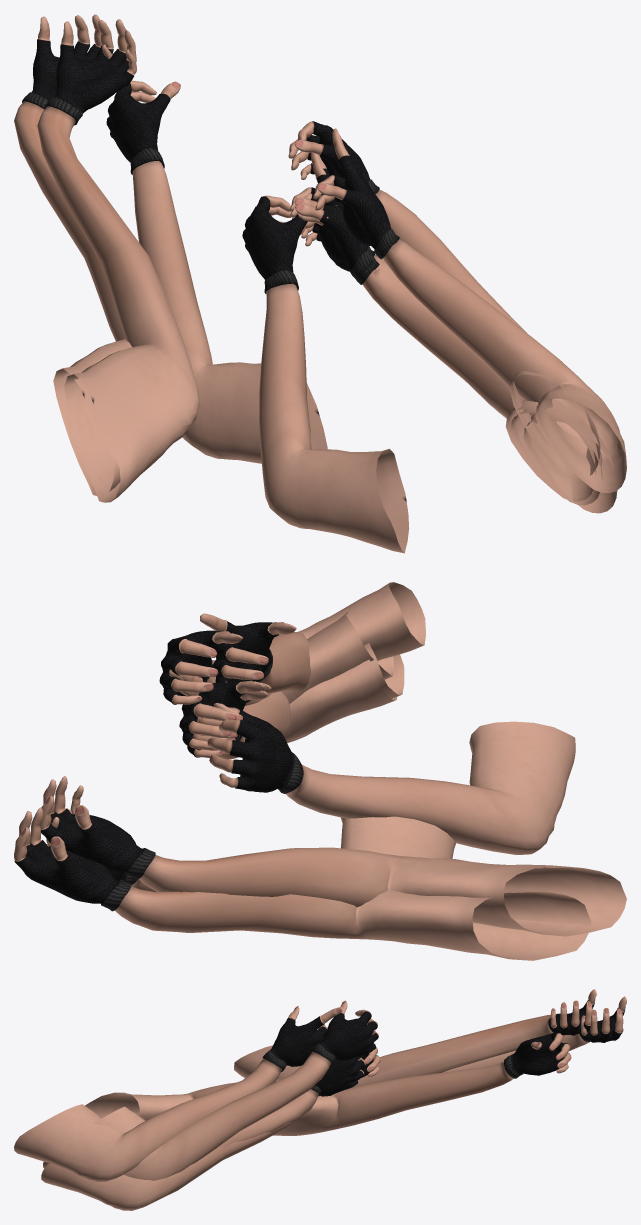
The model's file is viewmodel_arms.glb.
3 views of the same model, one above another, from view 1: azimuth 30°, elevation 25°; view 2: azimuth 150°, elevation 25°; view 3: azimuth 270°, elevation 25° (orthographic). The views are drawn at different scales.
Visible parts, largest first — view 1: msg90_sniper_l, silver_talon_50ae_l, m590_shotgun_r, m4a1_carbine_l, m4a1_carbine_r, m590_shotgun_l, frag_grenade_r, msg90_sniper_r, silver_talon_50ae_r; view 2: msg90_sniper_l, m590_shotgun_l, silver_talon_50ae_l, m590_shotgun_r, frag_grenade_r, silver_talon_50ae_r, m4a1_carbine_l, m4a1_carbine_r, msg90_sniper_r; view 3: m590_shotgun_r, frag_grenade_r, m4a1_carbine_l, msg90_sniper_l, msg90_sniper_r, silver_talon_50ae_r, silver_talon_50ae_l, m590_shotgun_l.
Part boxes in pixels (x1=…): msg90_sniper_l: x1=37, y1=19, x2=199, y2=502; silver_talon_50ae_l: x1=242, y1=195, x2=409, y2=553; m590_shotgun_r: x1=313, y1=128, x2=626, y2=493; m4a1_carbine_l: x1=106, y1=80, x2=327, y2=463; m4a1_carbine_r: x1=290, y1=152, x2=602, y2=505; m590_shotgun_l: x1=14, y1=14, x2=132, y2=495; frag_grenade_r: x1=288, y1=121, x2=600, y2=479; msg90_sniper_r: x1=297, y1=175, x2=617, y2=513; silver_talon_50ae_r: x1=289, y1=155, x2=596, y2=501; msg90_sniper_l: x1=40, y1=776, x2=626, y2=936; m590_shotgun_l: x1=14, y1=807, x2=591, y2=960; silver_talon_50ae_l: x1=207, y1=703, x2=575, y2=854; m590_shotgun_r: x1=200, y1=582, x2=425, y2=693; frag_grenade_r: x1=159, y1=612, x2=394, y2=705; silver_talon_50ae_r: x1=169, y1=659, x2=398, y2=749; m4a1_carbine_l: x1=46, y1=809, x2=455, y2=891; m4a1_carbine_r: x1=182, y1=643, x2=404, y2=755; msg90_sniper_r: x1=179, y1=690, x2=357, y2=759; m590_shotgun_r: x1=14, y1=1006, x2=342, y2=1181; frag_grenade_r: x1=93, y1=1000, x2=378, y2=1180; m4a1_carbine_l: x1=273, y1=1032, x2=571, y2=1135; msg90_sniper_l: x1=234, y1=989, x2=596, y2=1088; msg90_sniper_r: x1=41, y1=1059, x2=360, y2=1210; silver_talon_50ae_r: x1=214, y1=1030, x2=375, y2=1149; silver_talon_50ae_l: x1=85, y1=1047, x2=380, y2=1120; m590_shotgun_l: x1=443, y1=996, x2=626, y2=1072.
Size of the model in its own units: 0.4589 by 0.2781 by 0.8686.
1 material, 1 textured.
